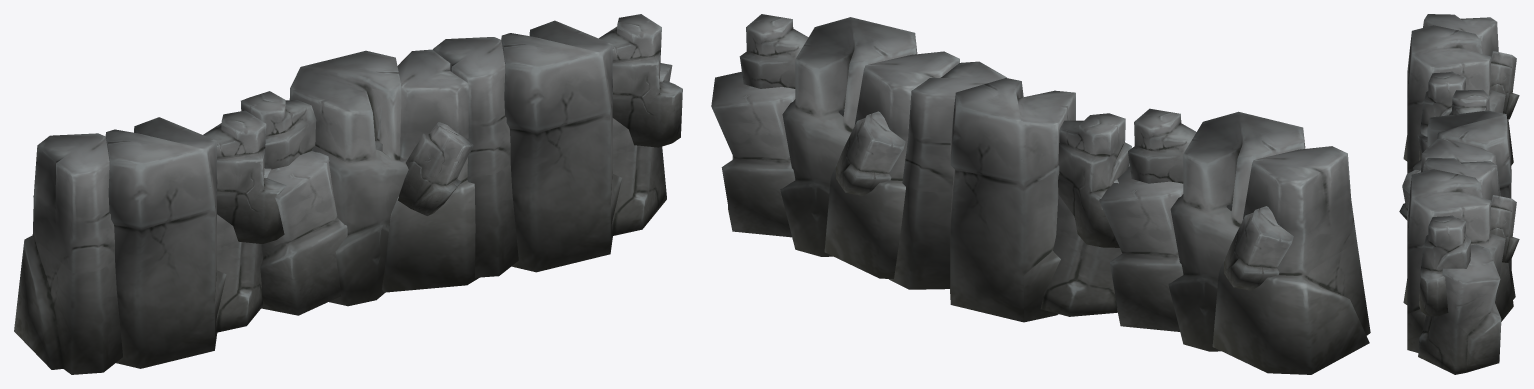
The model's file is RockSet.fbx.
3 renders of one model, left to right at view 1: azimuth 30°, elevation 25°; view 2: azimuth 150°, elevation 25°; view 3: azimuth 270°, elevation 25°, orthographic. The views are drawn at different scales.
Parts seen in each view (by area): view 1: Full_LOD0; view 2: Full_LOD0; view 3: Full_LOD0.
Boxes of the visible parts, x1=… form: Full_LOD0: x1=14, y1=14, x2=682, y2=374; Full_LOD0: x1=711, y1=14, x2=1370, y2=374; Full_LOD0: x1=1399, y1=14, x2=1519, y2=374.
Size of what is drawn, in the model's own units: 30.5 by 9.29 by 6.62.
